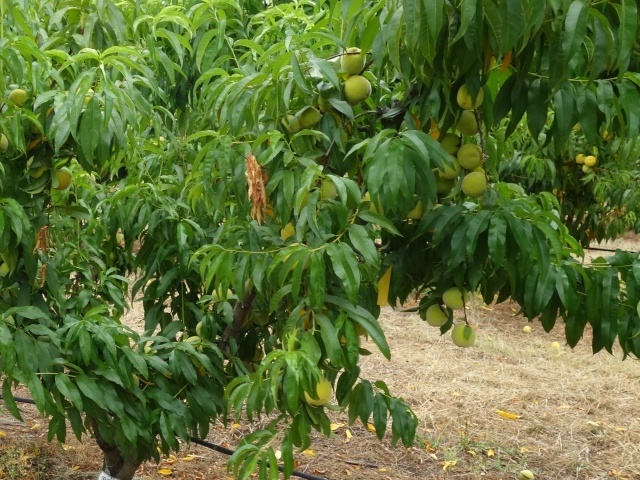peach: (302, 370, 337, 408), (340, 72, 374, 108), (456, 137, 488, 173), (453, 104, 485, 139), (454, 77, 486, 110), (338, 44, 369, 78), (462, 165, 492, 198), (435, 148, 465, 181), (439, 283, 471, 312), (424, 300, 452, 331), (452, 322, 480, 351), (438, 131, 466, 159), (295, 104, 321, 134), (276, 112, 302, 137), (51, 164, 74, 192), (5, 85, 30, 110)
